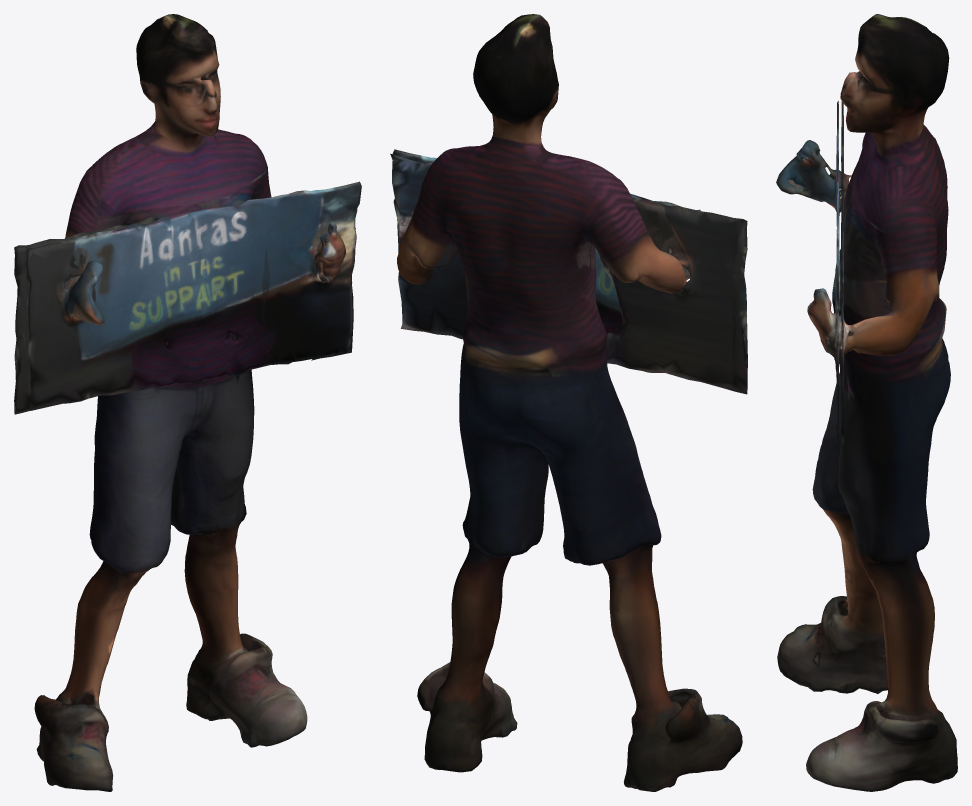
The model's file is vignesh3D.glb.
The picture shows the model from 3 angles, left to right: view 1: azimuth 30°, elevation 25°; view 2: azimuth 150°, elevation 25°; view 3: azimuth 270°, elevation 25°; orthographic projection. The views are drawn at different scales.
Bounding box in the file's own units: 1.01 × 2 × 0.4501.
Materials: 1 (1 with a texture image).
